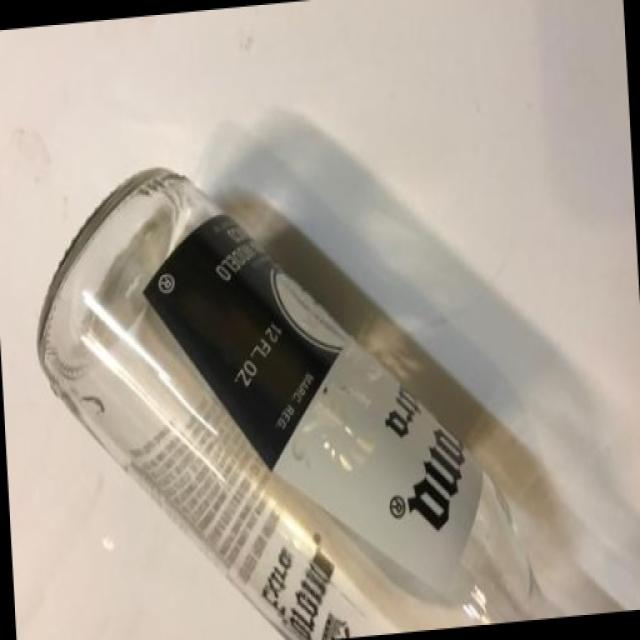vidrio: (28, 136, 579, 625)
